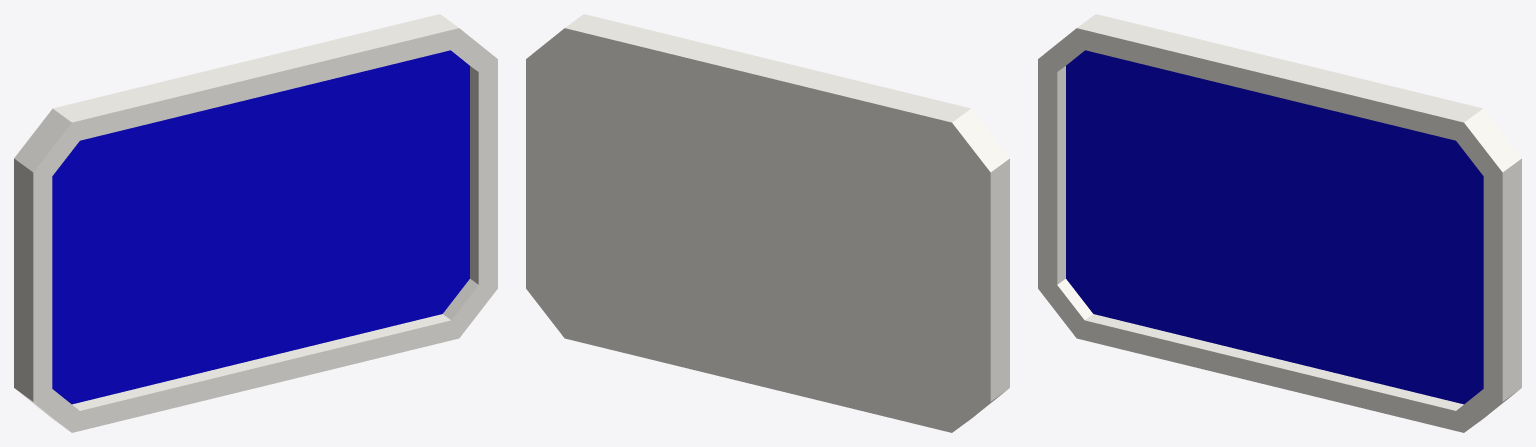
File: water filtration sign.fbx
3 renders of one model, left to right at view 1: azimuth 30°, elevation 25°; view 2: azimuth 150°, elevation 25°; view 3: azimuth 330°, elevation 25°, orthographic.
Parts seen in each view (by area): view 1: water filtration; view 2: water filtration; view 3: water filtration.
Boxes of the visible parts, x1,y1,x2,y2 form: water filtration: (14, 14, 497, 432); water filtration: (526, 14, 1009, 432); water filtration: (1038, 14, 1521, 432).
Size of the model in its own units: 257 by 164 by 18.45.
